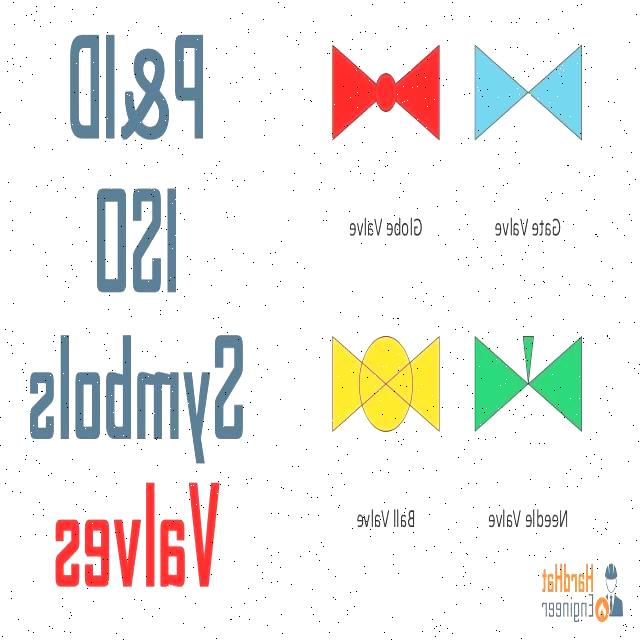Ball Valve: (314, 294, 444, 473), (470, 304, 599, 452)
Gate Valve: (458, 10, 600, 178)
Globe Valve: (305, 19, 452, 182)
